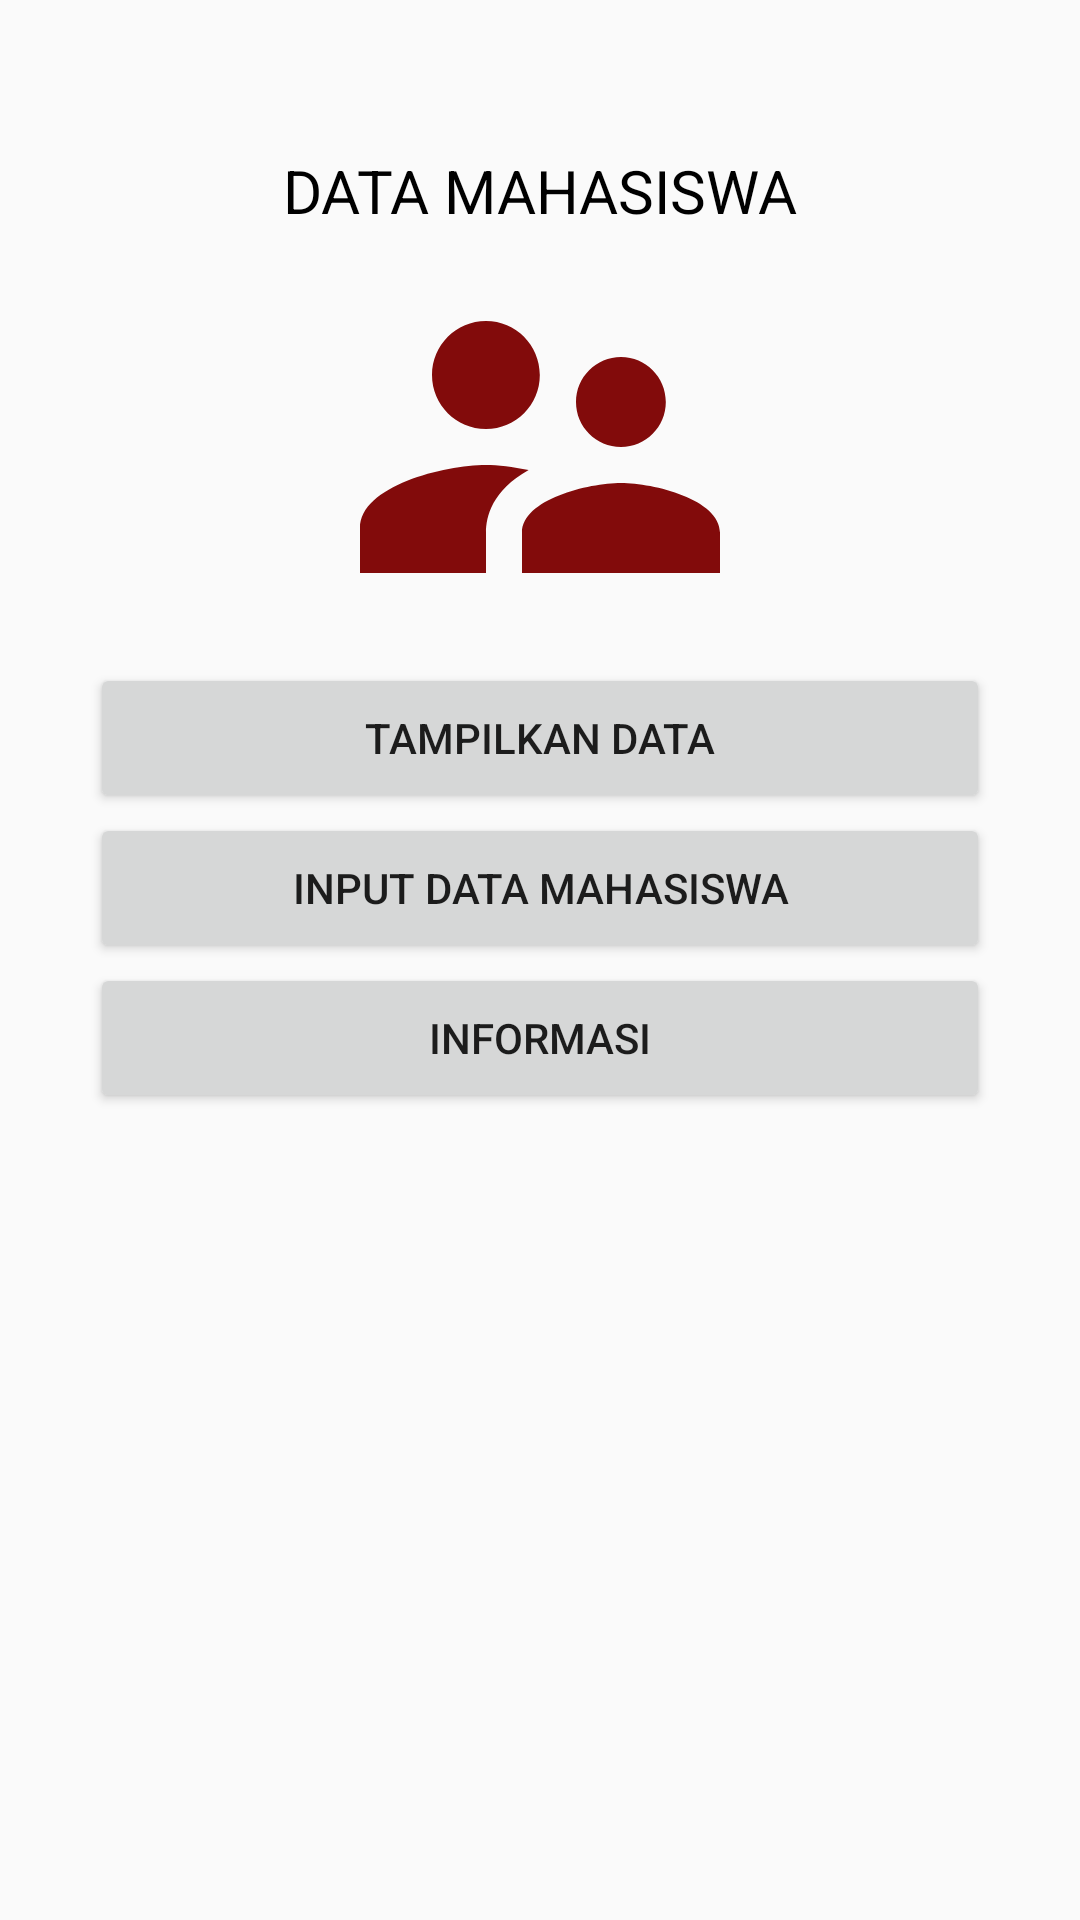

Icons on this 1080*1920 Android screen, each with the point to tap as point (x, y):
akun: point (540, 447)
